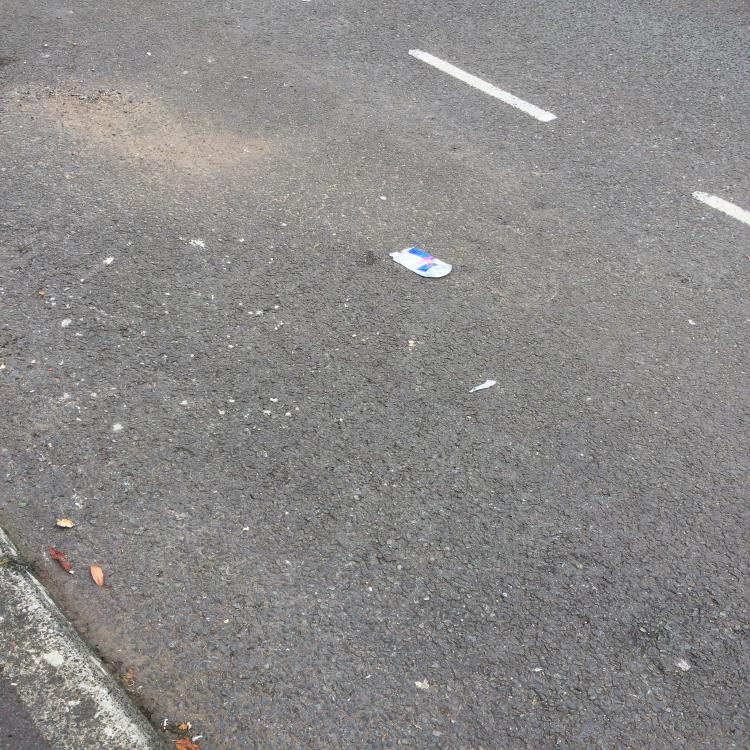Drink can: (390, 247, 452, 277)
Unlabeled litter: (469, 380, 496, 393)
